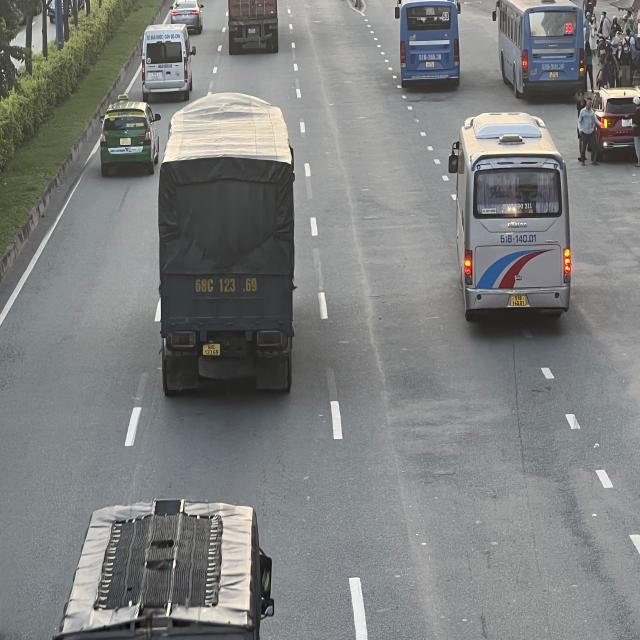car: (100, 102, 162, 175), (171, 0, 204, 32)
coach: (451, 110, 575, 319), (495, 0, 588, 96), (398, 0, 462, 87)
container: (228, 0, 279, 51)
truck: (161, 88, 301, 390)
van: (144, 27, 198, 101)
